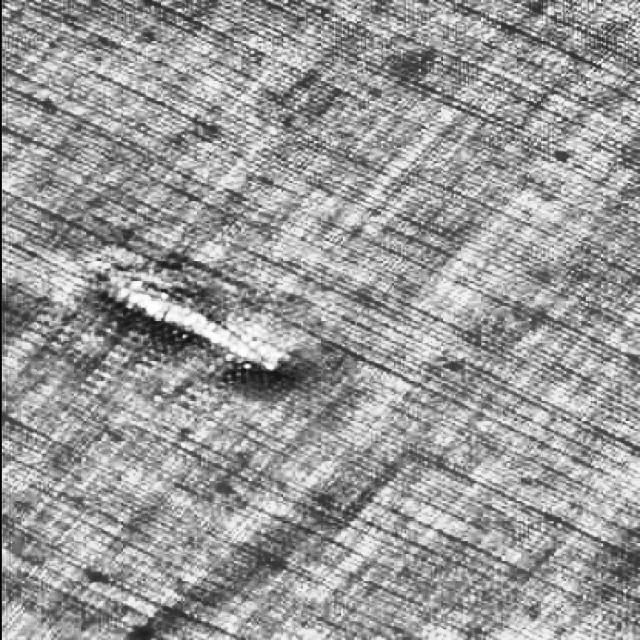hole: (87, 252, 305, 398)
